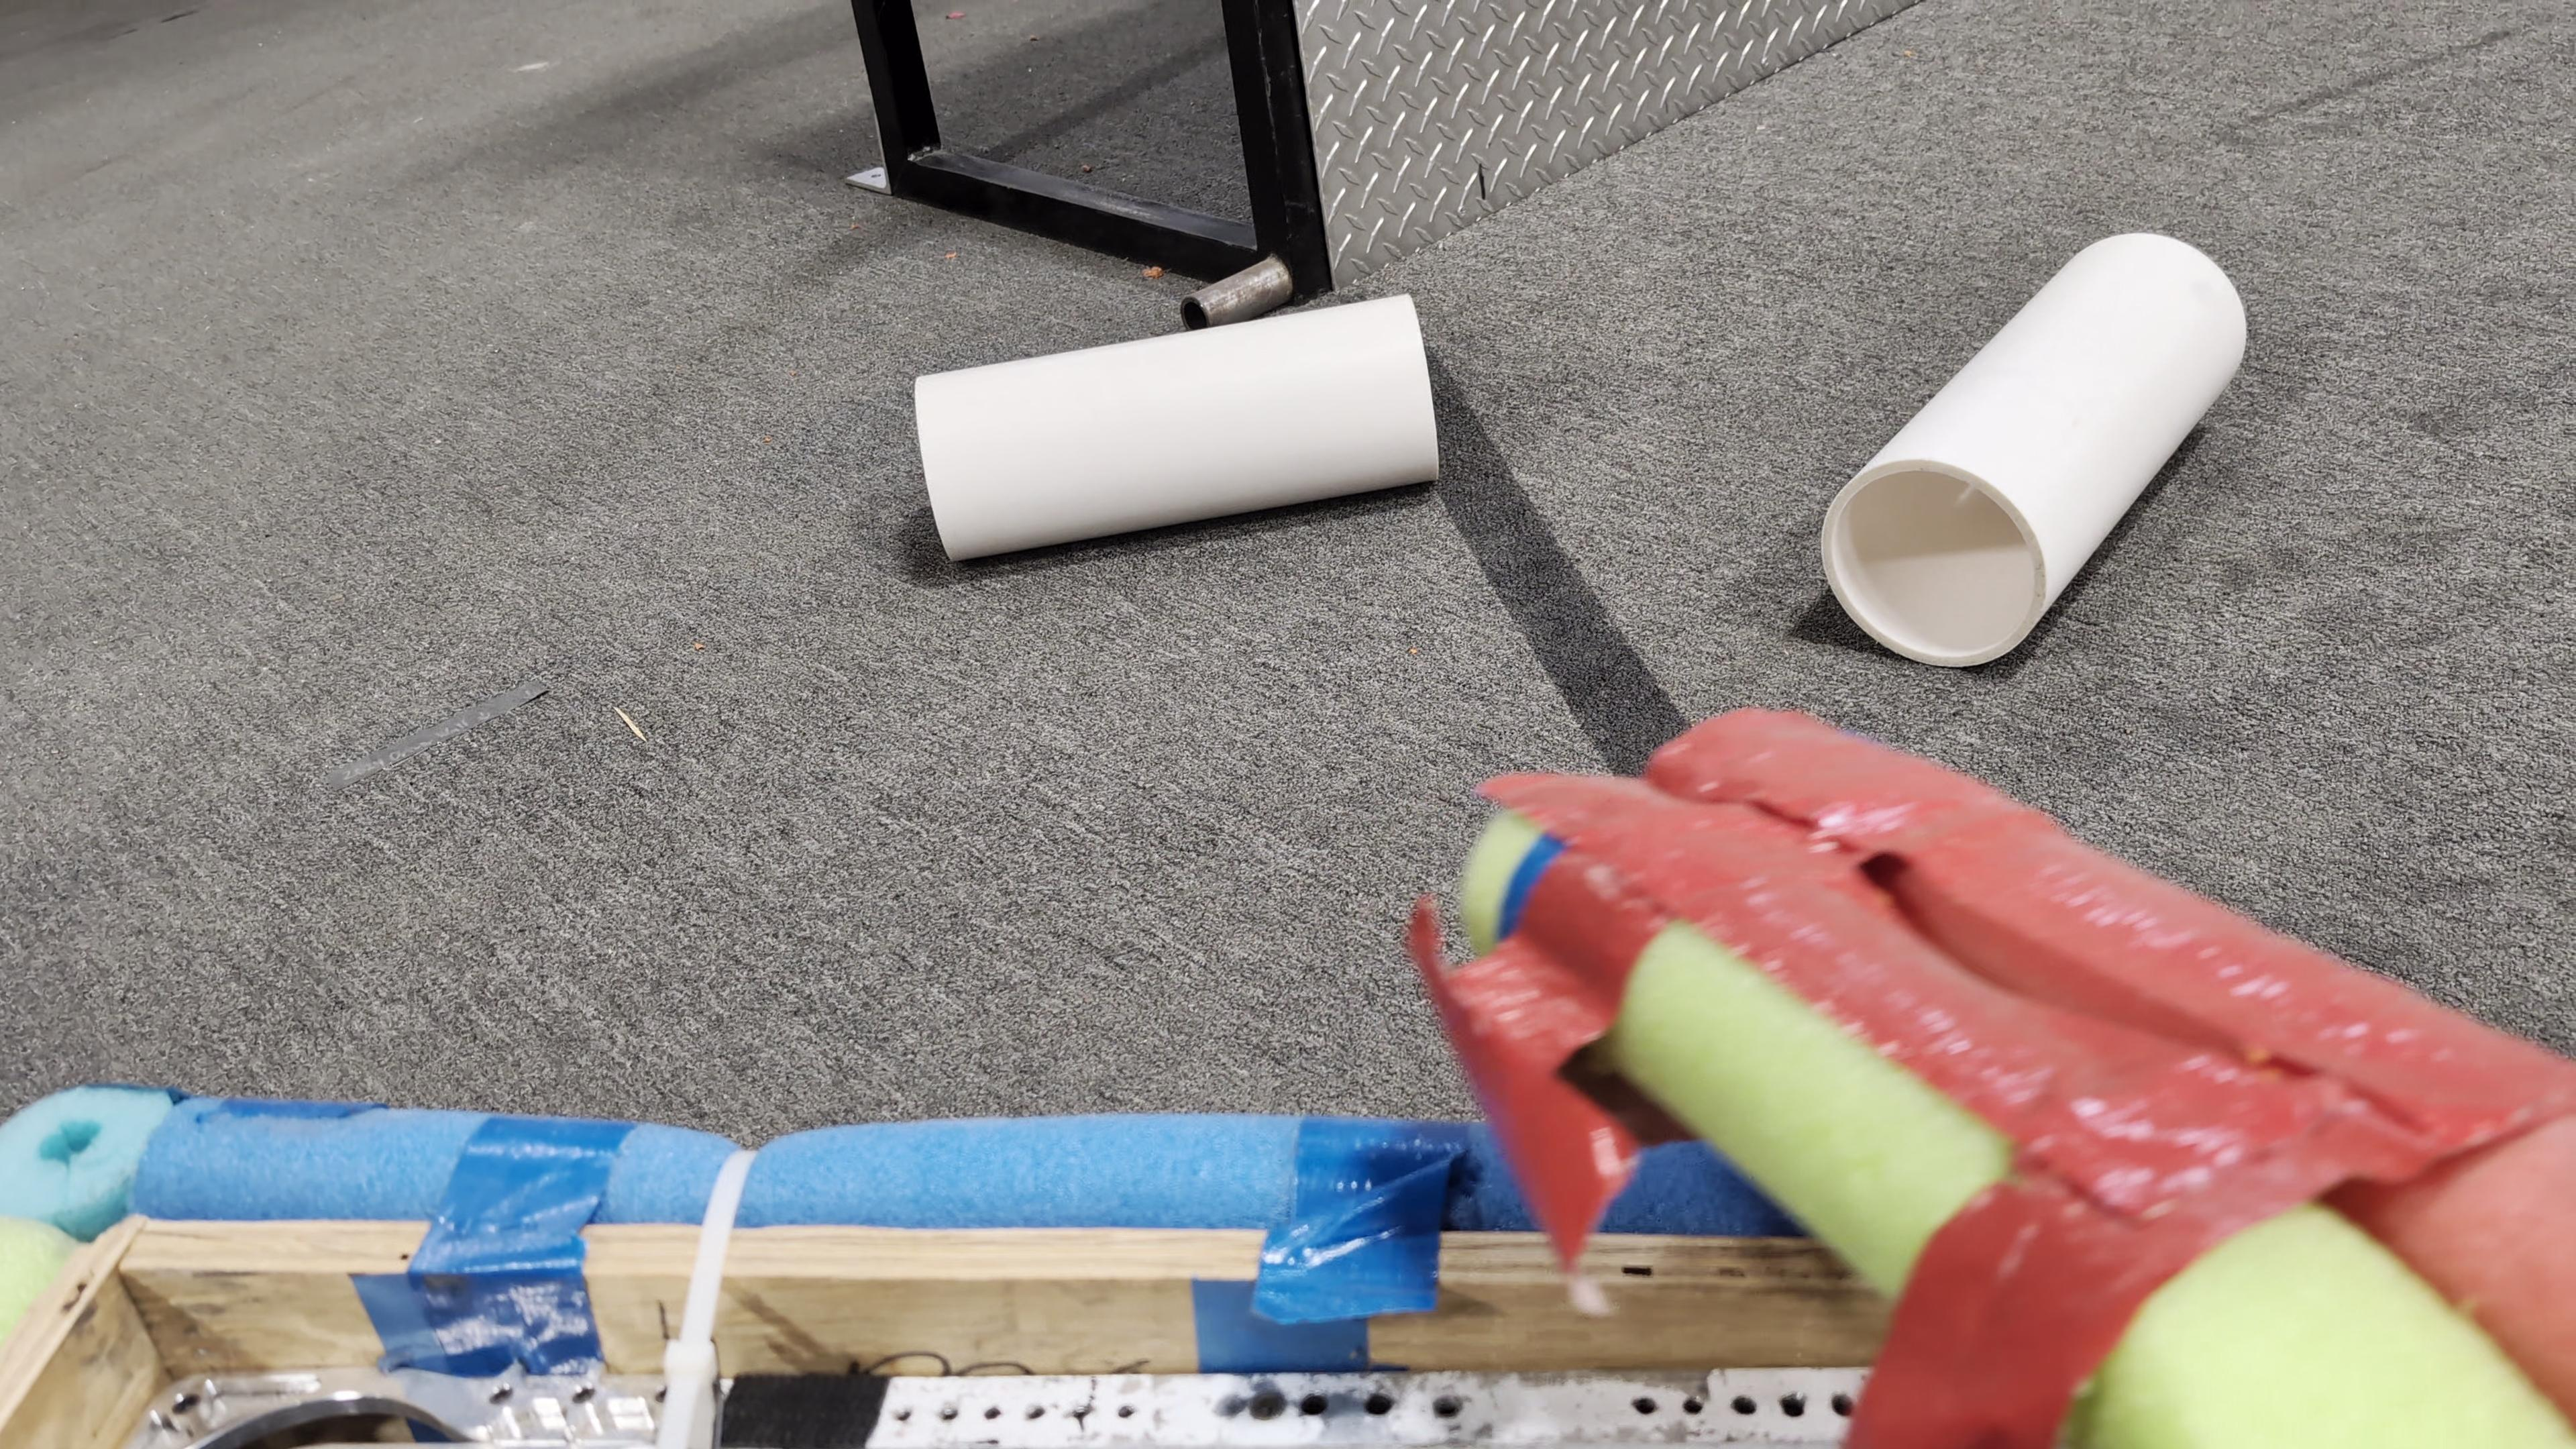coral: (1821, 226, 2250, 667), (913, 290, 1440, 561)
